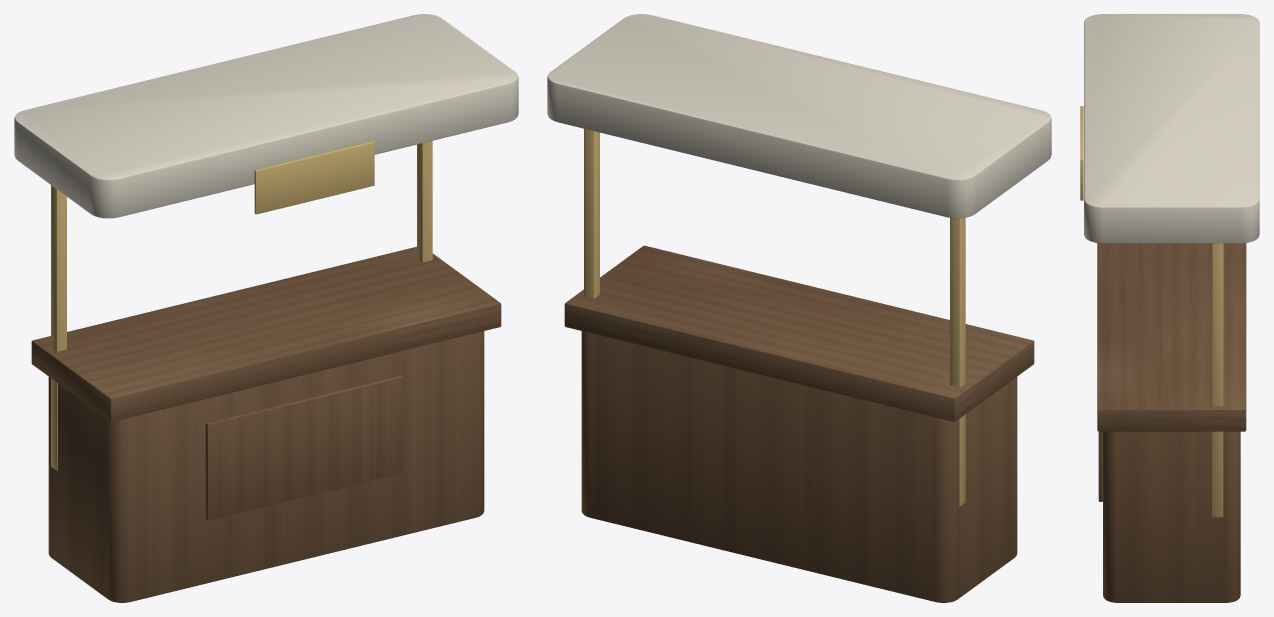
File: bag_drop_station_country_club.glb
3 views of the same model, side by side, from view 1: azimuth 30°, elevation 25°; view 2: azimuth 150°, elevation 25°; view 3: azimuth 270°, elevation 25° (orthographic). The views are drawn at different scales.
Visible parts, largest first — view 1: BagDrop_Counter, BagDrop_Canopy, BagDrop_ServiceTop, BagDrop_ConciergePanel, BagDrop_BrassCrest, BagDrop_CanopyPost_L, BagDrop_CanopyPost_R; view 2: BagDrop_Counter, BagDrop_Canopy, BagDrop_ServiceTop, BagDrop_CanopyPost_L, BagDrop_CanopyPost_R; view 3: BagDrop_Canopy, BagDrop_ServiceTop, BagDrop_Counter, BagDrop_CanopyPost_R, BagDrop_BrassCrest, BagDrop_ConciergePanel.
Part boxes in pixels (x1,y1,x2,y2): BagDrop_Counter: (48,331,484,602); BagDrop_Canopy: (14,14,518,218); BagDrop_ServiceTop: (31,246,501,421); BagDrop_ConciergePanel: (205,375,402,520); BagDrop_BrassCrest: (254,141,374,214); BagDrop_CanopyPost_L: (51,185,66,470); BagDrop_CanopyPost_R: (417,141,432,262); BagDrop_Counter: (581,331,1017,602); BagDrop_Canopy: (547,14,1051,218); BagDrop_ServiceTop: (564,245,1034,421); BagDrop_CanopyPost_L: (950,217,965,506); BagDrop_CanopyPost_R: (584,129,599,298); BagDrop_Canopy: (1084,14,1259,243); BagDrop_ServiceTop: (1097,243,1246,431); BagDrop_Counter: (1103,431,1240,602); BagDrop_CanopyPost_R: (1212,243,1223,517); BagDrop_BrassCrest: (1080,106,1083,200); BagDrop_ConciergePanel: (1098,431,1102,501).
Size of what is drawn, in the model's own units: 2.35 by 2.31 by 0.9204.
3 materials, 1 textured.
